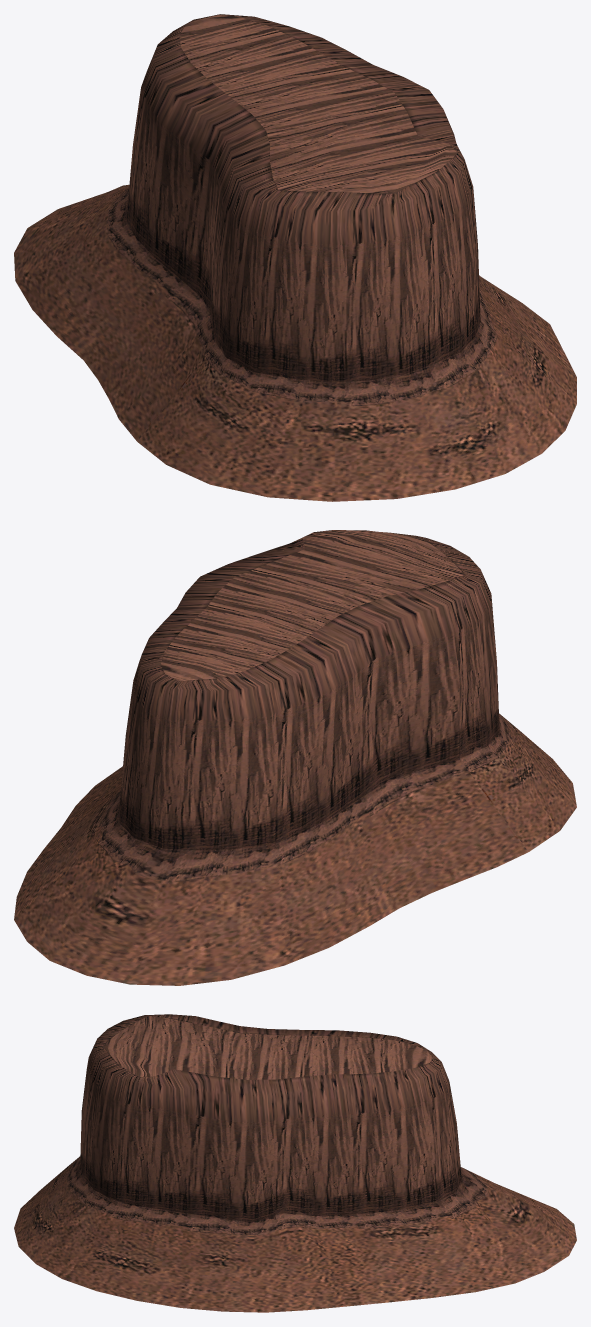
Rendered from object_53.001_lev2.glb.
The picture shows the model from 3 angles, top to bottom: view 1: azimuth 30°, elevation 25°; view 2: azimuth 150°, elevation 25°; view 3: azimuth 270°, elevation 25°; orthographic projection. The views are drawn at different scales.
Visible parts, largest first — view 1: object_53.001_lev2; view 2: object_53.001_lev2; view 3: object_53.001_lev2.
Part boxes in pixels (bbox=[...]): object_53.001_lev2: bbox=[14, 14, 576, 501]; object_53.001_lev2: bbox=[14, 530, 576, 985]; object_53.001_lev2: bbox=[14, 1014, 576, 1312].
Bounding box in the file's own units: 15.44 × 8.75 × 23.98.
1 material, 1 textured.
